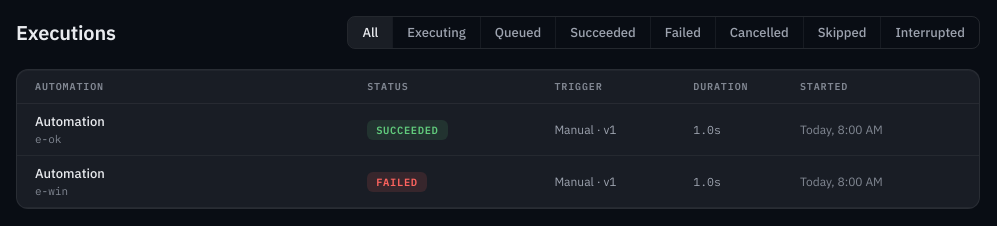
Test case: executions list status filter (§7) › fetches the filter's own page and merges it with the window's matching rows
Step 1. Click the button "Failed" → point(682, 32), box [650, 17, 715, 48]
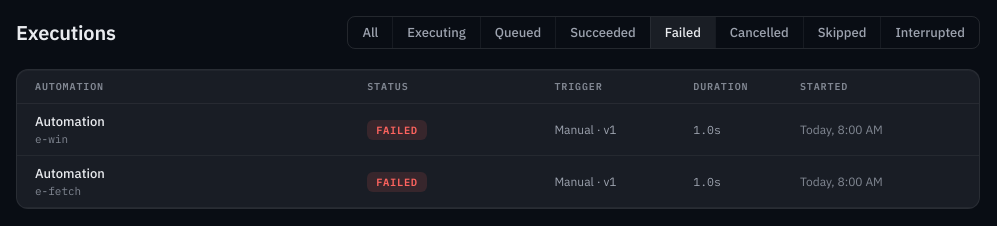
Expected: the text "e-win" is shown, [35, 132, 68, 146]
Now the text "e-fetch" is shown, box [35, 184, 81, 198]
Now the button "e-ok" is gone
